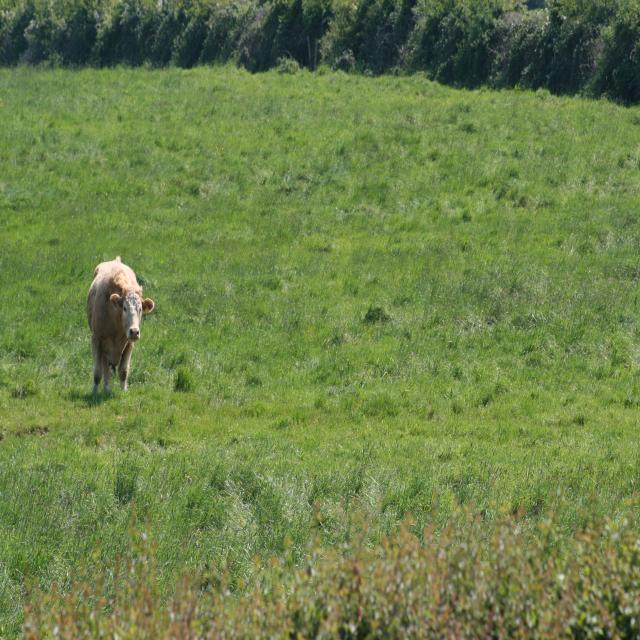cow: (86, 257, 154, 394)
